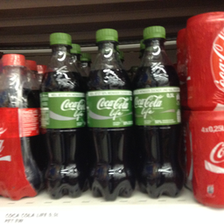soda: (85, 26, 136, 202), (133, 26, 182, 198), (38, 31, 88, 198), (1, 51, 42, 202), (184, 11, 224, 109), (188, 109, 224, 207)
